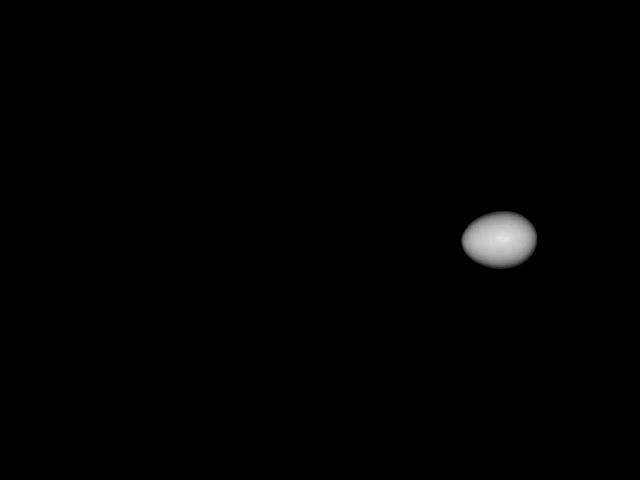egg: (462, 211, 537, 269)
